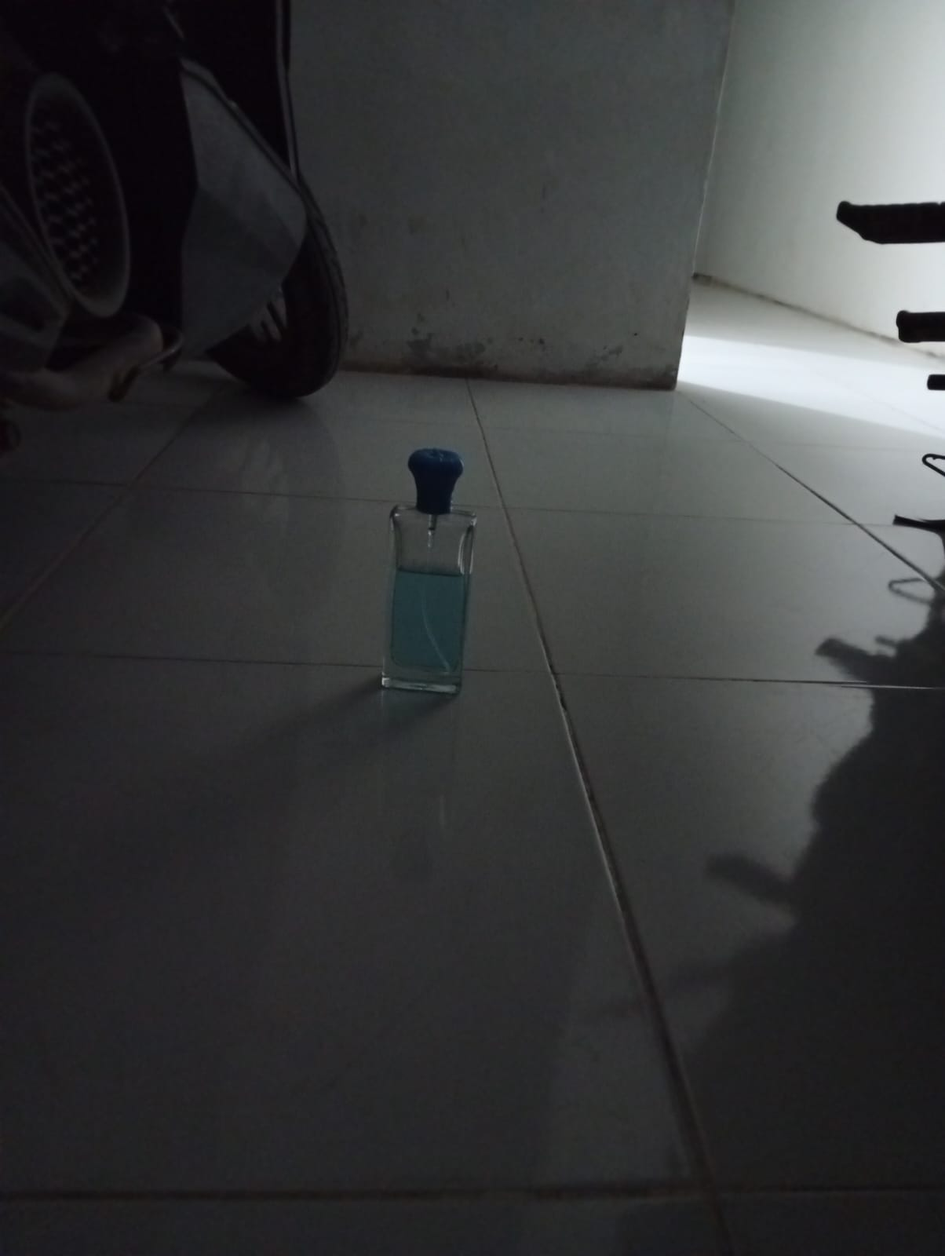Parfum: (351, 436, 511, 720)
